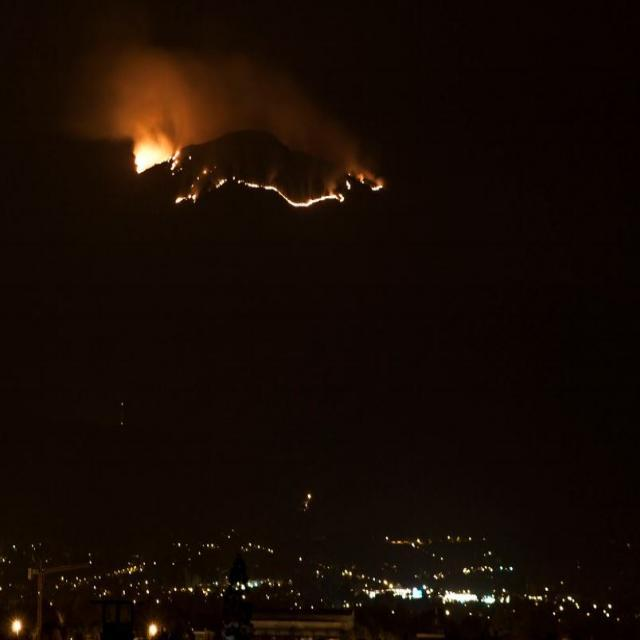Fire: (218, 170, 348, 212), (170, 170, 212, 206), (134, 143, 170, 170), (358, 175, 386, 193)
